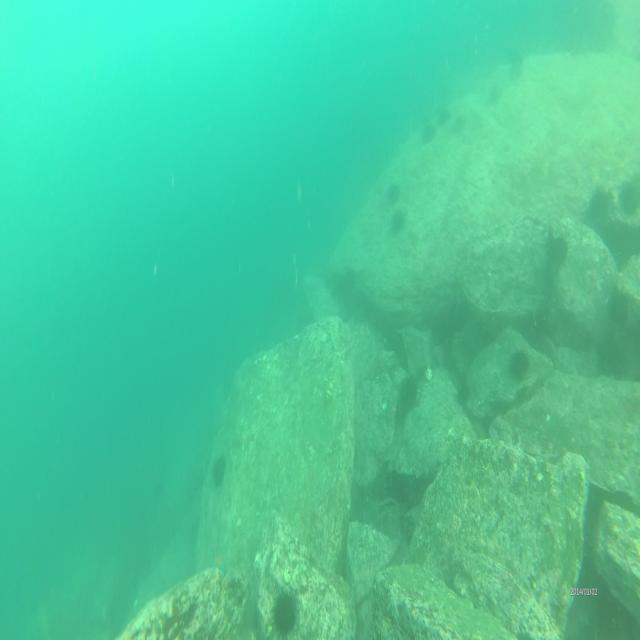echinus: (268, 586, 302, 640), (589, 185, 616, 231), (606, 288, 630, 330), (397, 372, 419, 415), (508, 348, 532, 386), (544, 237, 569, 270), (620, 173, 640, 213), (209, 448, 228, 488), (454, 378, 472, 406), (433, 99, 451, 126), (390, 209, 406, 235), (417, 123, 435, 146), (384, 178, 400, 203)
starfish: (208, 547, 228, 577)
